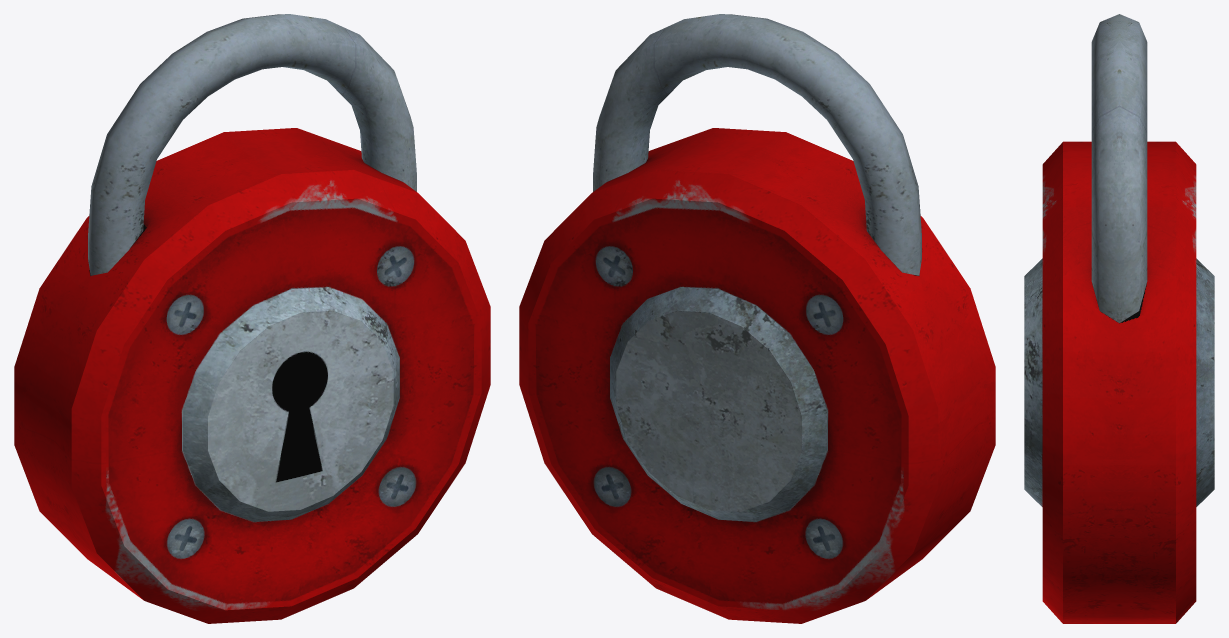
The model's file is red_silver_lock.glb.
The picture shows the model from 3 angles, left to right: view 1: azimuth 30°, elevation 25°; view 2: azimuth 150°, elevation 25°; view 3: azimuth 270°, elevation 25°; orthographic projection.
Visible parts, largest first — view 1: Object_2; view 2: Object_2; view 3: Object_2.
Part boxes in pixels (x1,y1,x2,y2): Object_2: [14, 14, 490, 623]; Object_2: [519, 14, 995, 623]; Object_2: [1024, 14, 1214, 623].
Bounding box in the file's own units: 0.3555 × 0.4701 × 0.1418.
Materials: 1 (1 with a texture image).
